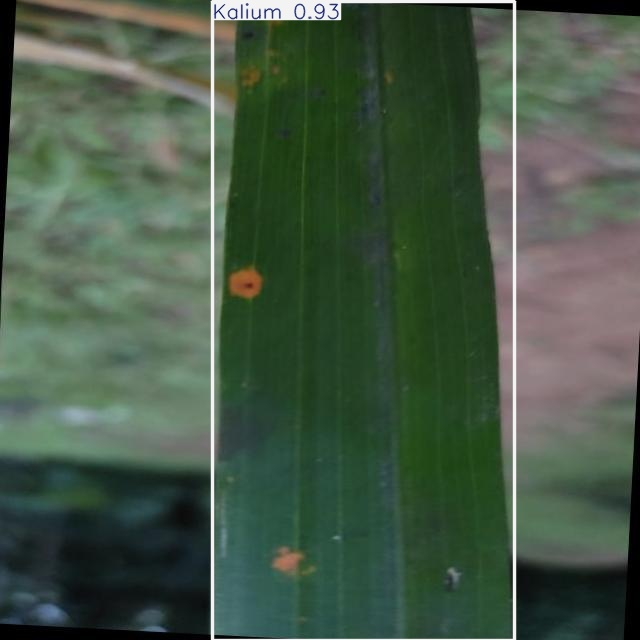Kalium: (213, 1, 514, 640)
